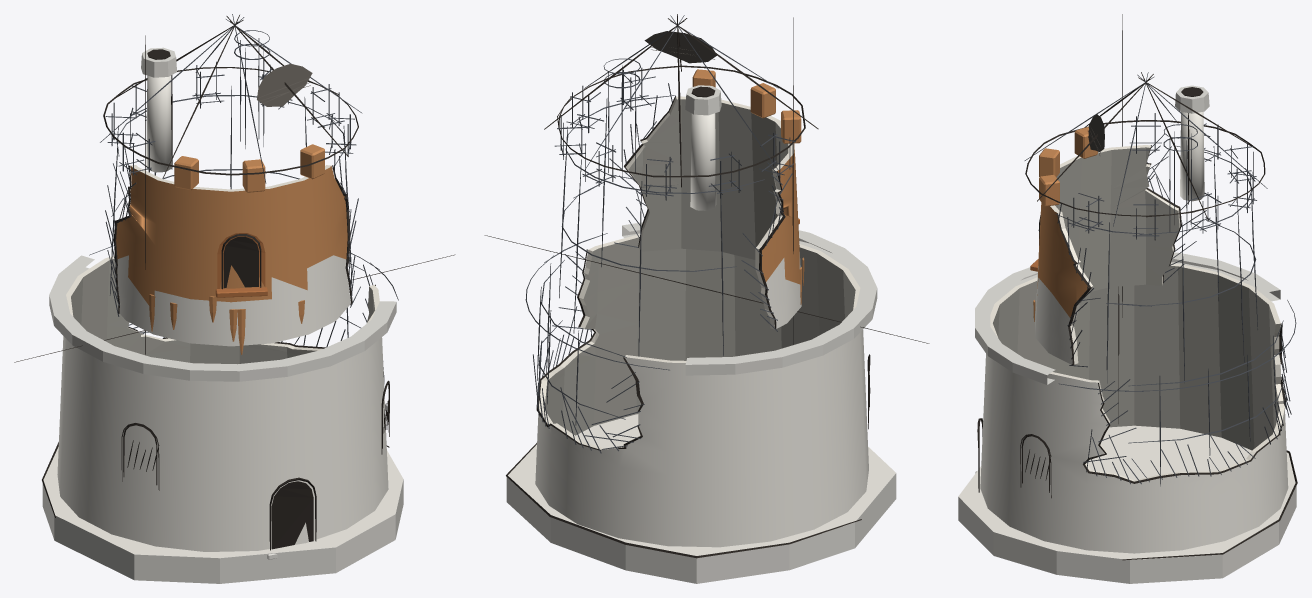
Rendered from House_2.fbx.
3 renders of one model, left to right at view 1: azimuth 30°, elevation 25°; view 2: azimuth 150°, elevation 25°; view 3: azimuth 270°, elevation 25°, orthographic. The views are drawn at different scales.
Parts seen in each view (by area): view 1: House, Lines; view 2: House, Lines; view 3: House, Lines.
Part boxes in pixels (<box>): House: <box>42,47,403,583</box>; Lines: <box>14,14,455,550</box>; House: <box>506,69,896,583</box>; Lines: <box>484,14,929,558</box>; House: <box>958,85,1296,583</box>; Lines: <box>977,14,1297,560</box>.
Size of the model in its own units: 6.1 by 6.57 by 4.39.
